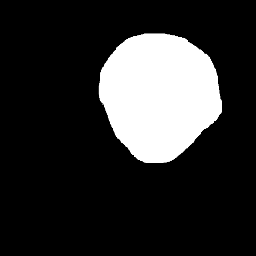mass: (101, 37, 214, 163)
